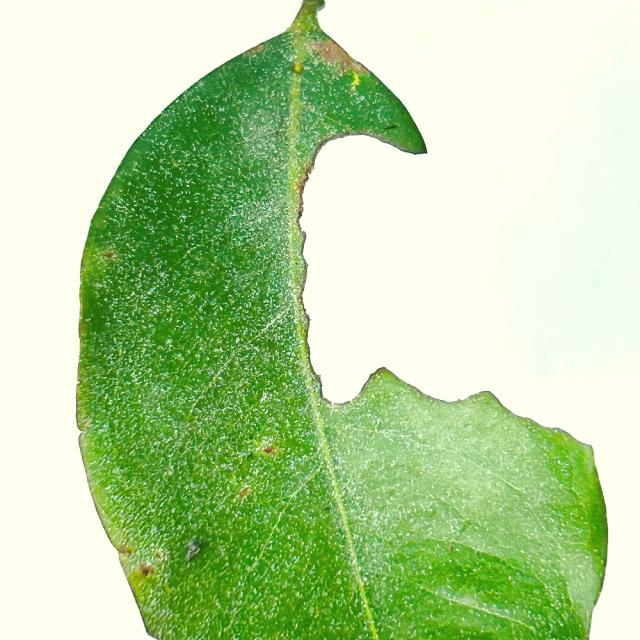Deficiency Leaf: (303, 136, 499, 403)
Lychee: (75, 0, 610, 639)
